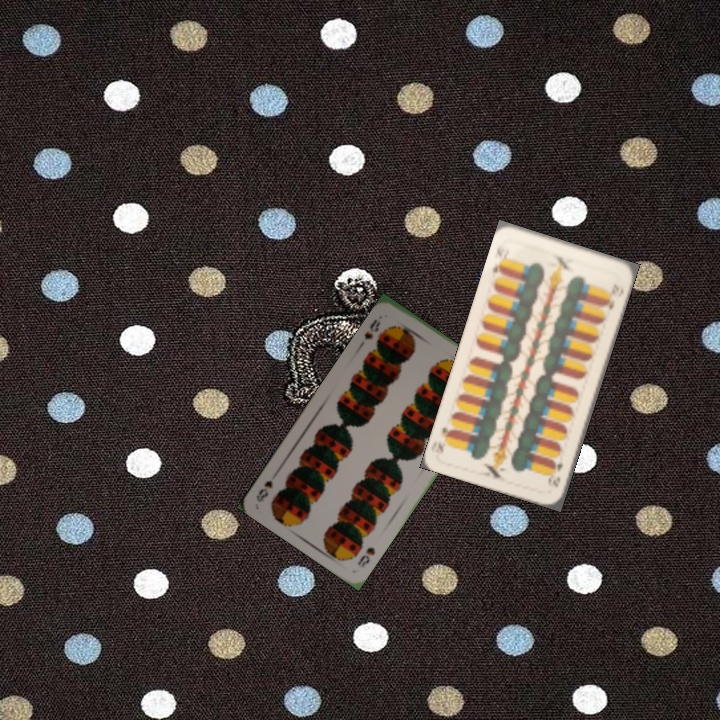E10: (488, 239, 510, 278), (544, 453, 565, 490)
S8: (353, 543, 378, 570), (360, 315, 383, 342)
